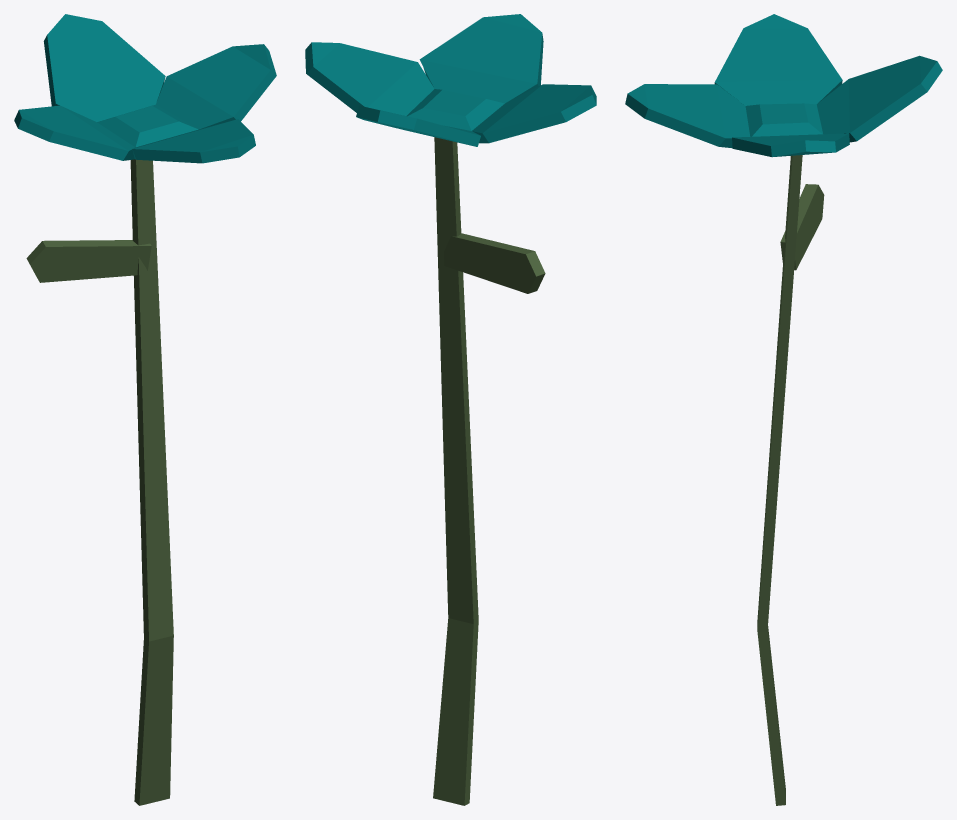
Rendered from flower_3.gltf.
3 renders of one model, left to right at view 1: azimuth 30°, elevation 25°; view 2: azimuth 150°, elevation 25°; view 3: azimuth 270°, elevation 25°, orthographic. The views are drawn at different scales.
Parts seen in each view (by area): view 1: flower_3; view 2: flower_3; view 3: flower_3.
Boxes of the visible parts, x1,y1,x2,y2 form: flower_3: [14, 14, 276, 805]; flower_3: [305, 14, 596, 805]; flower_3: [625, 14, 942, 805].
Bounding box in the file's own units: 0.1941 × 0.5071 × 0.1992.
Materials: 1 (1 with a texture image).
